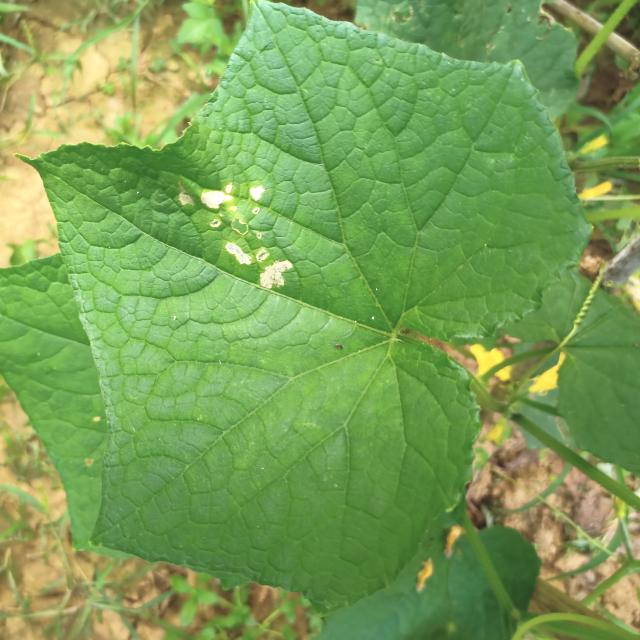disease_cucumber: (176, 180, 298, 304)
